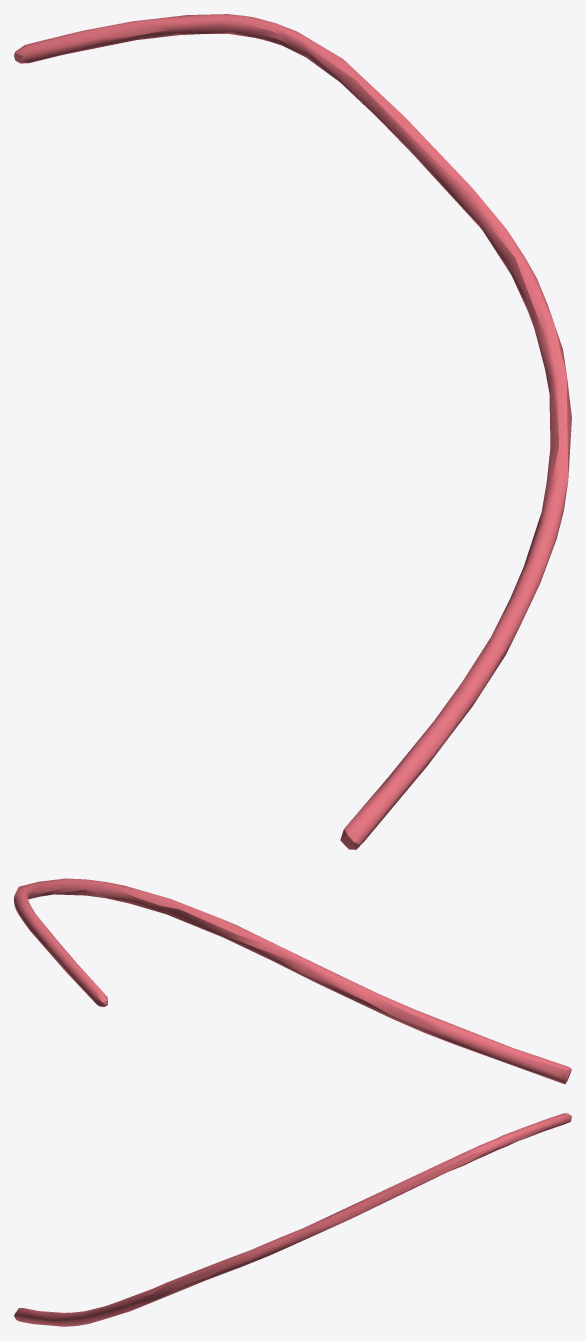
File: fma15390_fj3502.glb
The picture shows the model from 3 angles, top to bottom: view 1: azimuth 30°, elevation 25°; view 2: azimuth 150°, elevation 25°; view 3: azimuth 270°, elevation 25°; orthographic projection. The views are drawn at different scales.
Parts seen in each view (by area): view 1: FMA15390_FJ3502; view 2: FMA15390_FJ3502; view 3: FMA15390_FJ3502.
Boxes of the visible parts, bbox=[...] form: FMA15390_FJ3502: bbox=[14, 14, 571, 849]; FMA15390_FJ3502: bbox=[14, 878, 571, 1084]; FMA15390_FJ3502: bbox=[14, 1113, 571, 1326].
Size of the model in its own units: 0.0345 by 0.0373 by 0.0703.
